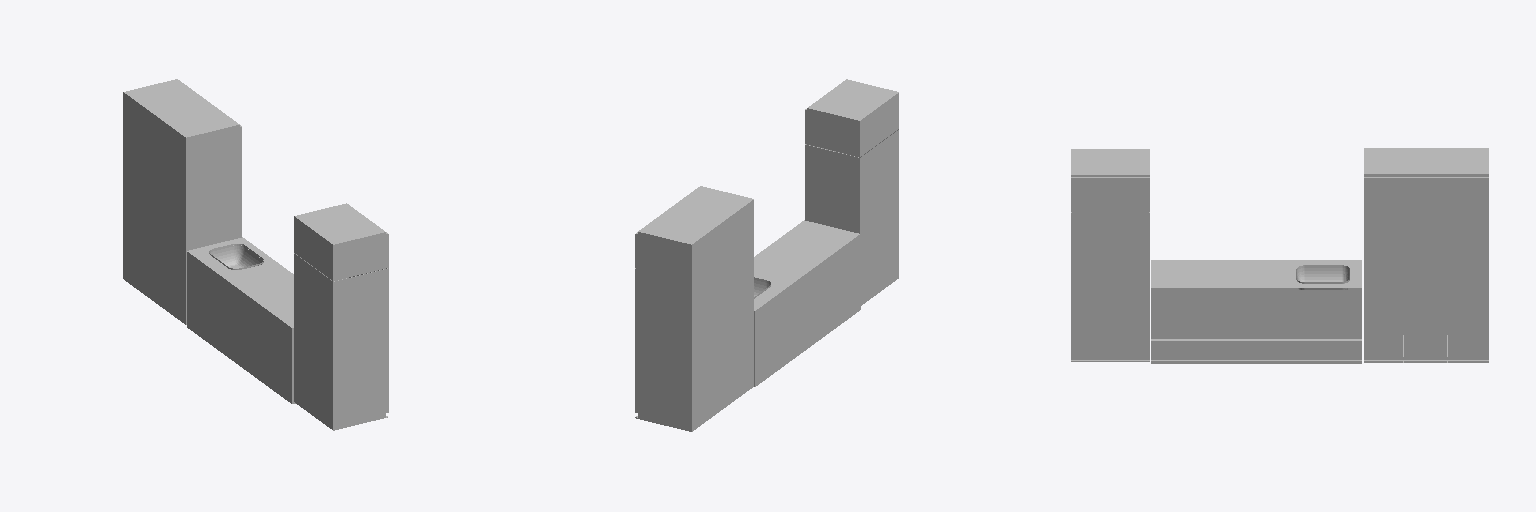
The model's file is kitchen_cabin.obj.
The picture shows the model from 3 angles: view 1: azimuth 30°, elevation 25°; view 2: azimuth 150°, elevation 25°; view 3: azimuth 270°, elevation 25°; orthographic projection.
Size of the model in its own units: 1.3 by 4.15 by 8.32.